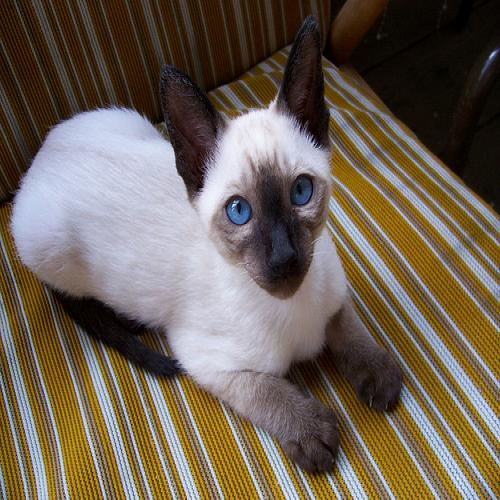siamese: (158, 8, 343, 315)
